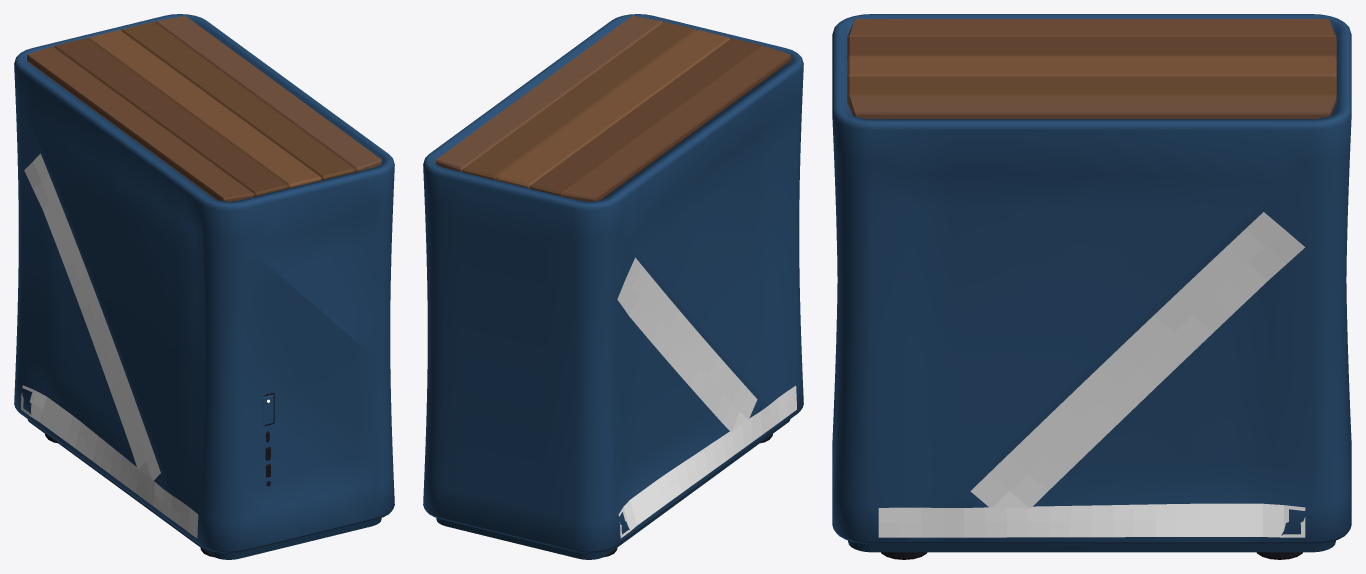
File: pc_era.glb
3 views of the same model, side by side, from view 1: azimuth 30°, elevation 25°; view 2: azimuth 150°, elevation 25°; view 3: azimuth 270°, elevation 25° (orthographic). The views are drawn at different scales.
Parts seen in each view (by area): view 1: pc_era, vents_left, slits_left; view 2: pc_era, vents_left, slits_left; view 3: pc_era, vents_right, slits_right.
Boxes of the visible parts, x1=… form: pc_era: x1=14, y1=14, x2=394, y2=559; vents_left: x1=24, y1=153, x2=160, y2=480; slits_left: x1=21, y1=385, x2=198, y2=538; pc_era: x1=423, y1=14, x2=803, y2=559; vents_left: x1=617, y1=257, x2=757, y2=431; slits_left: x1=618, y1=385, x2=796, y2=538; pc_era: x1=832, y1=14, x2=1351, y2=559; vents_right: x1=970, y1=212, x2=1305, y2=508; slits_right: x1=878, y1=503, x2=1305, y2=537.
Bounding box in the file's own units: 0.1666 × 0.31 × 0.325.
